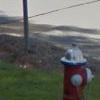Hydrant: (52, 36, 96, 100)
